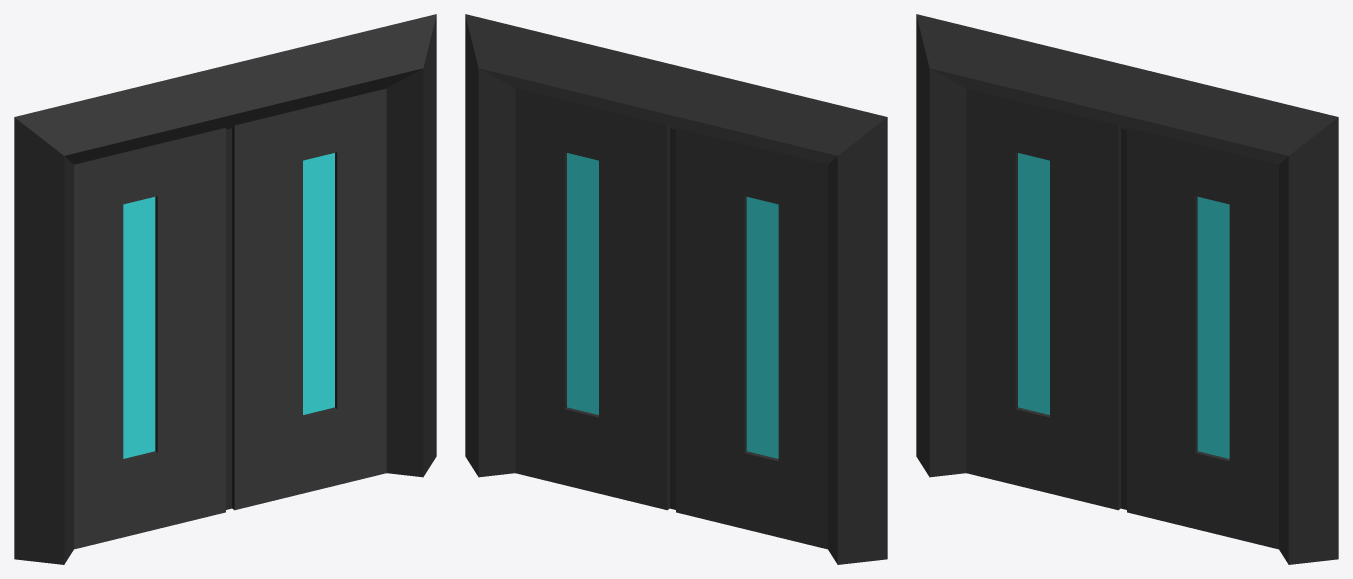
The model's file is HJD_SFB_Door_01.fbx.
3 views of the same model, side by side, from view 1: azimuth 30°, elevation 25°; view 2: azimuth 150°, elevation 25°; view 3: azimuth 330°, elevation 25° (orthographic).
Parts seen in each view (by area): view 1: Frame, Panel_Right, Panel_Left; view 2: Frame, Panel_Right, Panel_Left; view 3: Frame, Panel_Left, Panel_Right.
Part boxes in pixels (bbox=[...]): Frame: bbox=[14, 14, 436, 564]; Panel_Right: bbox=[228, 88, 386, 510]; Panel_Left: bbox=[74, 127, 227, 549]; Frame: bbox=[465, 14, 887, 564]; Panel_Right: bbox=[515, 88, 673, 510]; Panel_Left: bbox=[674, 127, 827, 549]; Frame: bbox=[916, 14, 1338, 564]; Panel_Left: bbox=[966, 88, 1124, 510]; Panel_Right: bbox=[1125, 127, 1278, 549].
Bounding box in the file's own units: 100 × 100 × 15.
